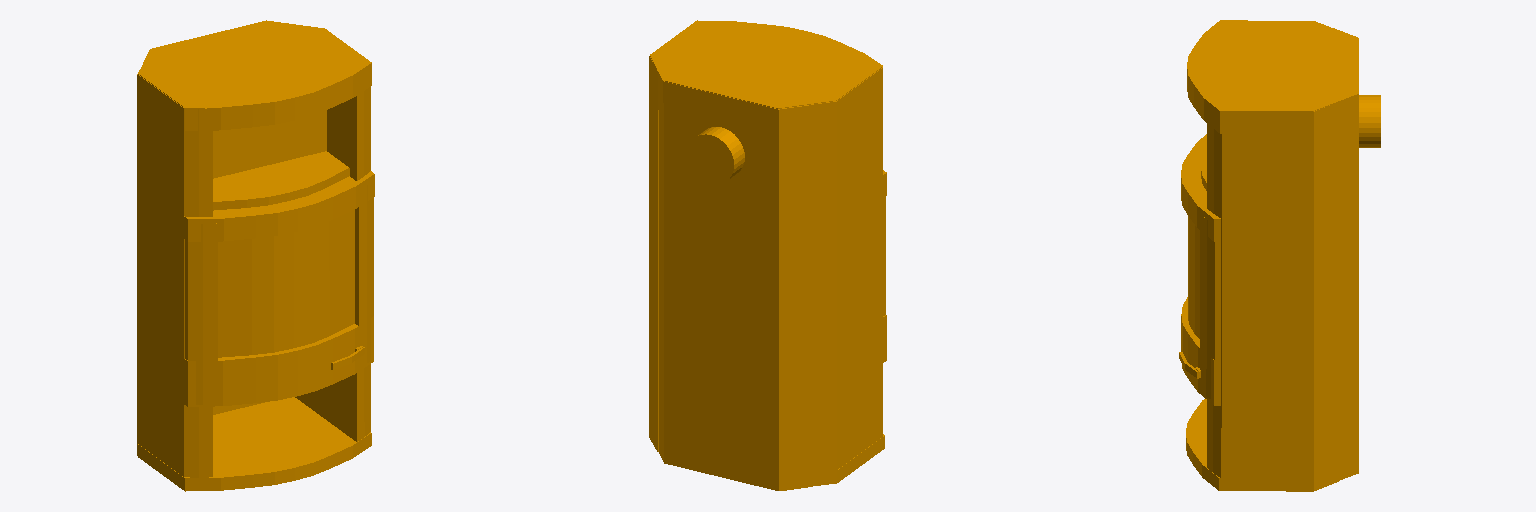
robot.urdf — none:
<robot name="none">
       <link name="none">
           <visual>
               <origin rpy="1.57 0 0" xyz="0 0 0" />
               <geometry>
                   <mesh filename="AtorArriere.obj" />
               </geometry>
           </visual>
          <collision>
              <geometry>
                  <box size="0.513572 1.000000 0.479108" />
              </geometry>
          </collision>

          <inertial>
            <mass value="0.0" />
            <inertia ixx="0.0" ixy="0.0" ixz="0.0" iyy="0.0" iyz="0.0" izz="0.0" />
          </inertial>
      </link>
  </robot>

--- What the picture shows (computed from the rendered views, not written in the file) ---
Views: 3 orthographic renders of the robot side by side, from view 1: azimuth 30°, elevation 25°; view 2: azimuth 150°, elevation 25°; view 3: azimuth 270°, elevation 25°.
Model none with 1 links and 0 joints (none), rooted at none, posed all joints at 0.
Visible links, largest first — view 1: none; view 2: none; view 3: none.
Link boxes in pixels (x1,y1,x2,y2): none: [137, 20, 374, 491]; none: [649, 20, 886, 490]; none: [1179, 20, 1380, 491].
Size in the robot's own frame: 0.5136 by 0.4796 by 1 metres.
Meshes: 1 distinct files referenced, 1 mesh visuals loaded (1 OBJ).